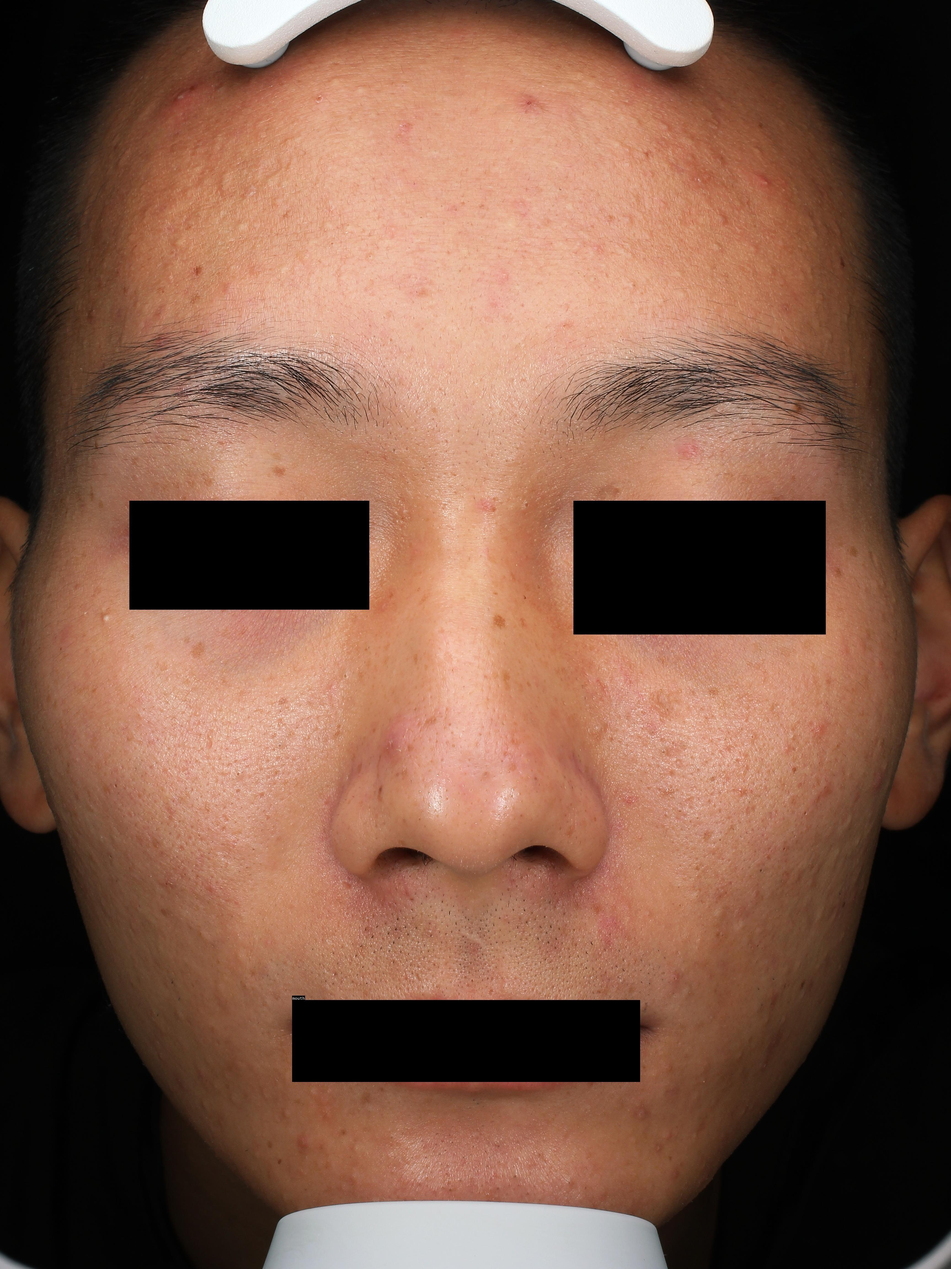atrophic_scar: (648, 690, 684, 725), (258, 156, 284, 177), (867, 550, 880, 572), (685, 796, 699, 810), (443, 651, 453, 667), (703, 831, 716, 843), (205, 738, 214, 752), (221, 812, 229, 824), (415, 972, 423, 983), (487, 988, 495, 997), (258, 791, 266, 800), (669, 769, 677, 778), (746, 806, 753, 816), (130, 810, 136, 817)
closed_comedo: (219, 171, 231, 193), (196, 928, 212, 943), (714, 908, 729, 921), (242, 187, 258, 199), (675, 289, 690, 301), (595, 721, 608, 734), (233, 950, 247, 962), (679, 135, 694, 146), (815, 906, 826, 921), (270, 196, 283, 208), (298, 250, 310, 262), (353, 84, 366, 95), (175, 1007, 185, 1021), (202, 1055, 214, 1066), (350, 1143, 361, 1155), (171, 238, 183, 249), (322, 220, 335, 230), (629, 116, 642, 126), (825, 329, 835, 342), (276, 264, 290, 273), (733, 196, 744, 207), (216, 983, 228, 993), (264, 174, 274, 186), (328, 76, 340, 86), (183, 187, 192, 200), (684, 986, 693, 998), (738, 921, 748, 931), (566, 201, 576, 211), (755, 1003, 765, 1013), (691, 1092, 701, 1102), (643, 231, 653, 241), (283, 137, 292, 148), (752, 146, 763, 155), (211, 1079, 219, 1091), (834, 225, 842, 237), (839, 931, 847, 943), (229, 1095, 238, 1105), (236, 222, 246, 231), (324, 199, 333, 209), (712, 242, 722, 251), (250, 1151, 260, 1160), (282, 1110, 291, 1119), (624, 160, 633, 169), (308, 1087, 316, 1097), (101, 614, 111, 622), (749, 244, 757, 254), (846, 815, 854, 825), (709, 122, 719, 130), (818, 292, 826, 302), (718, 100, 729, 107), (625, 215, 634, 223), (810, 229, 818, 238), (117, 158, 126, 166), (400, 508, 408, 517), (90, 854, 99, 862), (201, 1101, 208, 1111), (855, 837, 862, 847), (674, 270, 684, 277), (613, 141, 621, 149), (193, 710, 201, 718), (659, 200, 667, 208), (778, 239, 786, 247), (278, 180, 287, 187), (227, 263, 236, 270), (806, 265, 813, 274), (799, 272, 806, 281), (832, 911, 838, 921), (287, 162, 295, 169), (741, 1108, 748, 1116), (687, 154, 695, 161), (127, 233, 134, 240), (651, 1072, 658, 1079), (628, 281, 634, 289), (693, 1131, 699, 1139), (139, 183, 145, 191), (845, 313, 850, 322), (797, 961, 802, 970), (789, 734, 796, 740), (626, 252, 633, 258), (764, 1017, 770, 1024), (642, 152, 648, 159), (194, 165, 201, 171), (847, 303, 851, 313), (835, 849, 840, 857), (625, 146, 631, 152), (837, 964, 842, 971), (649, 172, 656, 177), (453, 58, 459, 63), (576, 241, 582, 246), (168, 274, 173, 280), (738, 1053, 743, 1058), (391, 226, 396, 231), (678, 688, 682, 693), (83, 611, 88, 615), (769, 270, 773, 274), (893, 597, 896, 602)
hypertrophic_scar: (460, 926, 490, 951), (338, 879, 354, 890)
melasma: (589, 483, 624, 515), (188, 641, 207, 660), (415, 591, 432, 608), (493, 612, 507, 631), (422, 714, 439, 729), (200, 470, 214, 487), (778, 645, 795, 658), (790, 401, 807, 414), (501, 671, 511, 692), (271, 466, 288, 478), (849, 543, 861, 558), (90, 584, 103, 597), (706, 685, 720, 697), (770, 494, 784, 506), (129, 455, 141, 468), (355, 758, 364, 775), (376, 754, 382, 779), (376, 785, 384, 803), (277, 696, 289, 707), (219, 604, 231, 614), (412, 652, 419, 667), (97, 498, 105, 511), (89, 485, 95, 502), (364, 659, 373, 670), (523, 581, 531, 593), (509, 570, 516, 583), (407, 743, 416, 753), (834, 567, 842, 578), (520, 617, 527, 629), (789, 473, 797, 482), (389, 589, 396, 599), (94, 439, 99, 450), (491, 591, 500, 596), (424, 663, 429, 672), (527, 680, 533, 687), (277, 1159, 281, 1165), (523, 594, 527, 600), (537, 585, 541, 590)
nevus: (799, 978, 806, 989)
open_comedo: (521, 500, 532, 511), (274, 740, 285, 750), (344, 222, 354, 232), (659, 746, 668, 756), (233, 769, 242, 779), (694, 891, 701, 900), (749, 733, 756, 740), (676, 808, 683, 815), (512, 1173, 519, 1180), (329, 240, 335, 248), (343, 672, 349, 679), (645, 911, 651, 918), (349, 1174, 356, 1180), (367, 254, 373, 260), (557, 186, 563, 192), (453, 207, 459, 213), (388, 337, 394, 343), (592, 277, 599, 282), (577, 142, 583, 147), (576, 270, 582, 275), (695, 815, 700, 821), (688, 819, 693, 825), (483, 770, 488, 776), (196, 833, 202, 838), (519, 875, 525, 880), (506, 886, 511, 892), (803, 811, 808, 816), (758, 868, 763, 873), (755, 943, 760, 948), (449, 1140, 454, 1145), (392, 447, 397, 452), (566, 1180, 571, 1185), (447, 722, 452, 727), (451, 743, 456, 748), (718, 837, 722, 843), (666, 707, 670, 712), (251, 847, 255, 852), (161, 289, 165, 294), (534, 776, 538, 781), (782, 847, 786, 851), (419, 215, 423, 219), (480, 235, 484, 239), (114, 783, 117, 788), (793, 835, 797, 838)
papule: (381, 716, 413, 759), (680, 439, 698, 455), (754, 173, 771, 188), (873, 773, 883, 790), (158, 879, 175, 889), (814, 721, 826, 735), (327, 681, 340, 693), (714, 212, 728, 223), (636, 1108, 648, 1120), (222, 282, 232, 294), (662, 1130, 672, 1142), (669, 973, 679, 983), (660, 121, 670, 131), (315, 95, 326, 104), (525, 99, 534, 108), (666, 1063, 674, 1073), (400, 122, 410, 130), (822, 784, 829, 795), (87, 309, 95, 318), (380, 601, 387, 610), (198, 1070, 205, 1079), (593, 245, 600, 252), (868, 369, 872, 380), (784, 745, 790, 752)
pustule: (173, 89, 190, 103), (296, 1136, 309, 1150), (499, 272, 507, 281)
